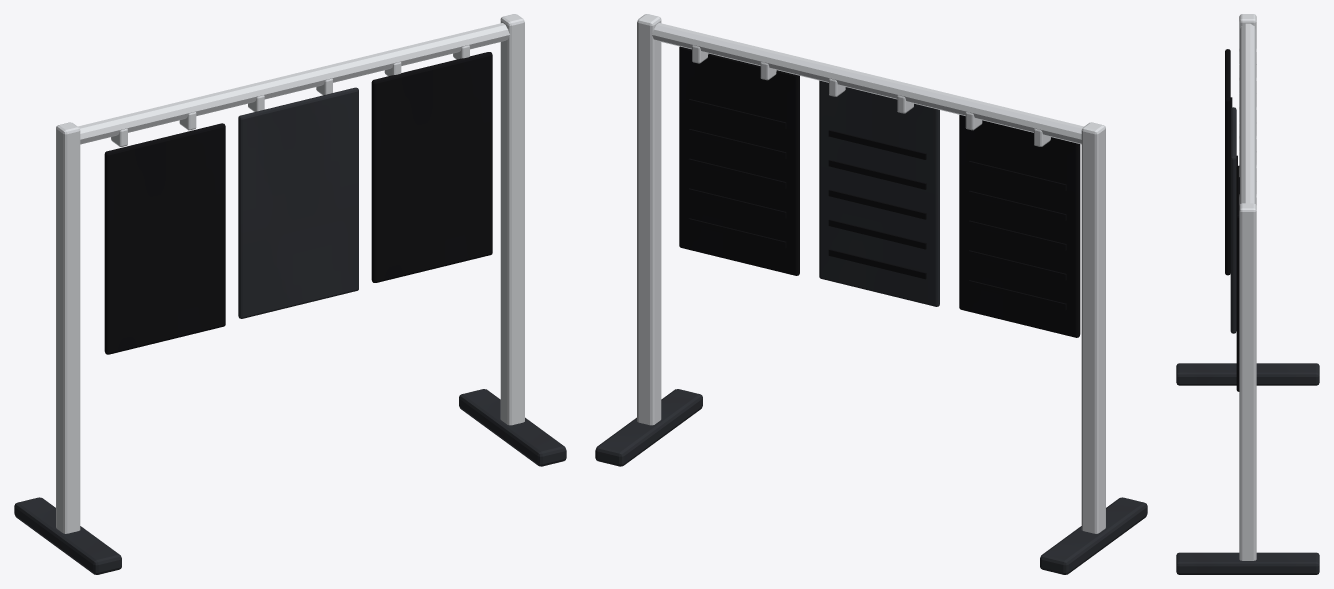
Rendered from SW_MatRack.glb.
The picture shows the model from 3 angles, left to right: view 1: azimuth 30°, elevation 25°; view 2: azimuth 150°, elevation 25°; view 3: azimuth 270°, elevation 25°; orthographic projection. The views are drawn at different scales.
Parts seen in each view (by area): view 1: Mats, Frame; view 2: Mats, Frame; view 3: Frame, Mats.
Part boxes in pixels (x1,y1,x2,y2): Mats: [104, 45, 492, 354]; Frame: [14, 14, 566, 574]; Mats: [679, 45, 1080, 337]; Frame: [595, 14, 1147, 574]; Frame: [1176, 14, 1319, 574]; Mats: [1225, 48, 1256, 391].
Size of the model in its own units: 1.66 by 1.4 by 0.5.
Materials: 2 (1 with a texture image).
